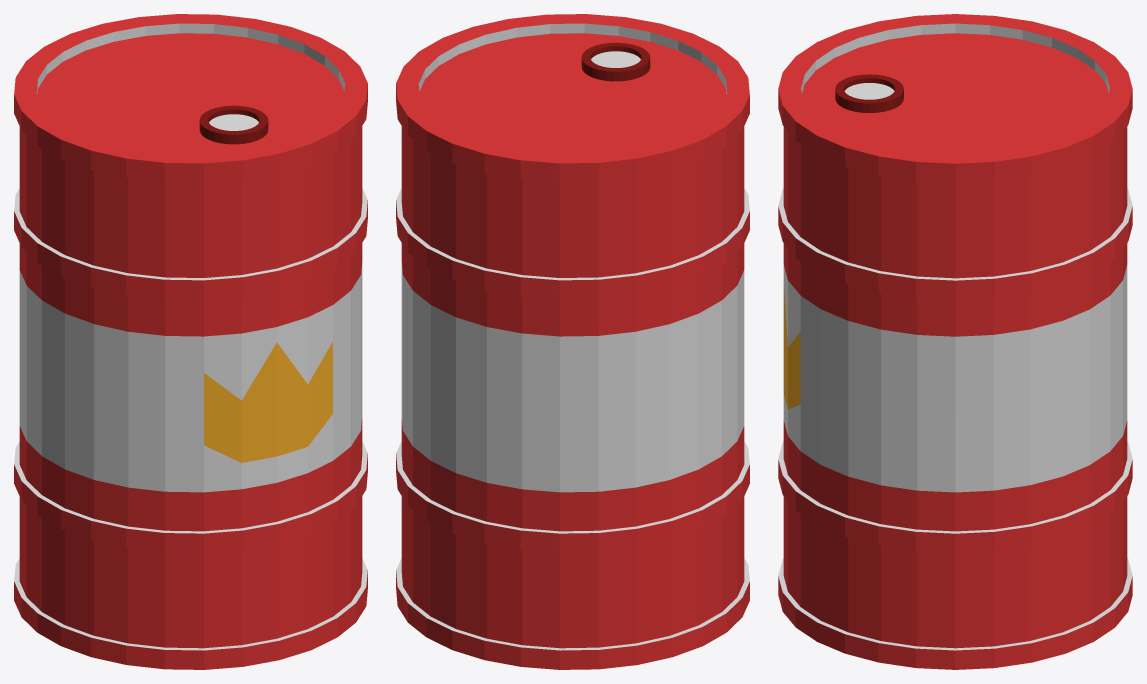
The model's file is item_barrel_gas.fbx.
The picture shows the model from 3 angles, left to right: view 1: azimuth 30°, elevation 25°; view 2: azimuth 150°, elevation 25°; view 3: azimuth 270°, elevation 25°; orthographic projection.
Parts seen in each view (by area): view 1: Borders; view 2: Borders; view 3: Borders.
Boxes of the visible parts, x1,y1,x2,y2 form: Borders: [14, 14, 367, 669]; Borders: [396, 14, 749, 669]; Borders: [778, 14, 1132, 669].
Size of the model in its own units: 165 by 260 by 165.
